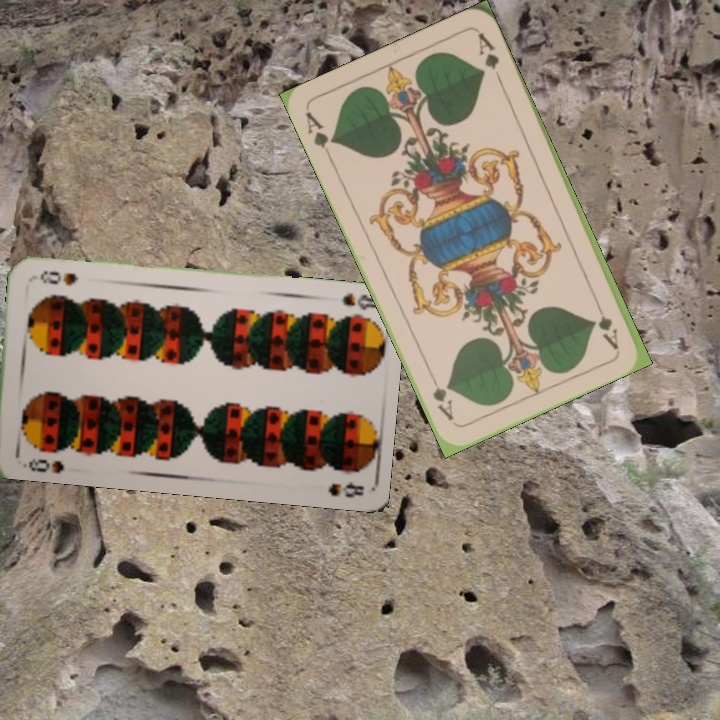GA: (300, 107, 338, 163), (591, 295, 621, 352)
S8: (337, 289, 381, 313), (19, 454, 66, 475)
